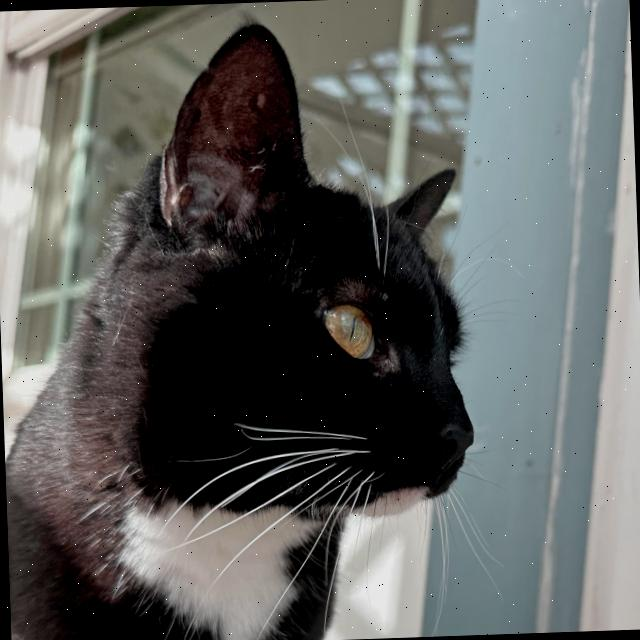manx_cat: (48, 17, 491, 552)
